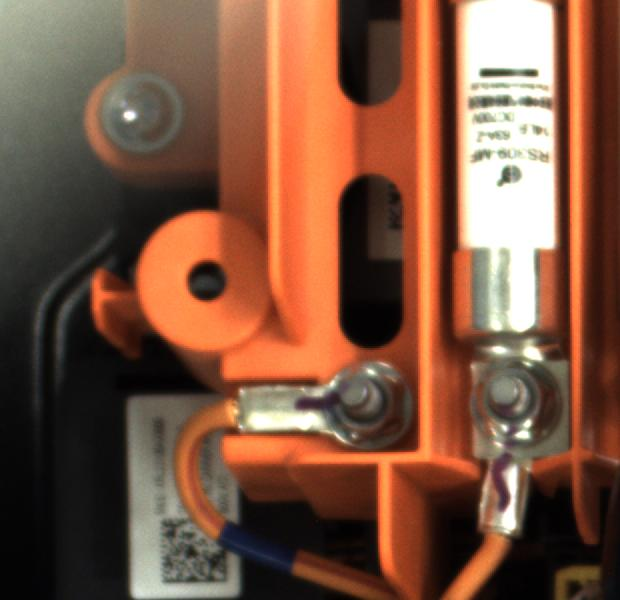screw_s: (469, 358, 583, 449), (320, 358, 412, 440)
